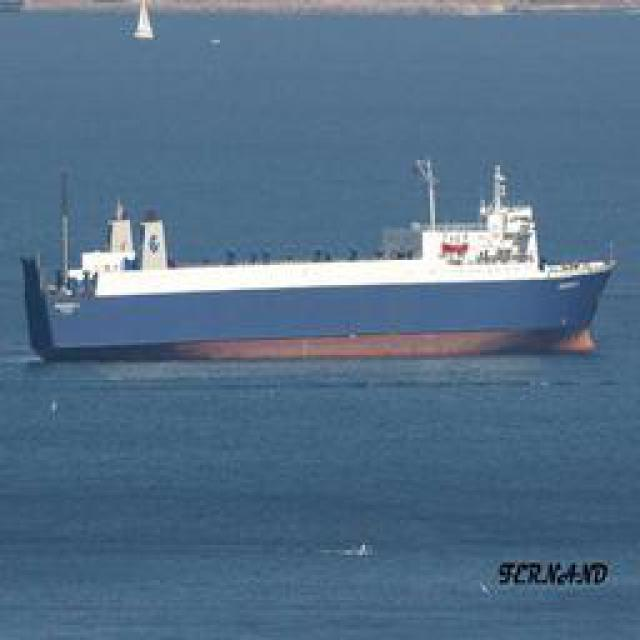Ship: (25, 159, 620, 364)
